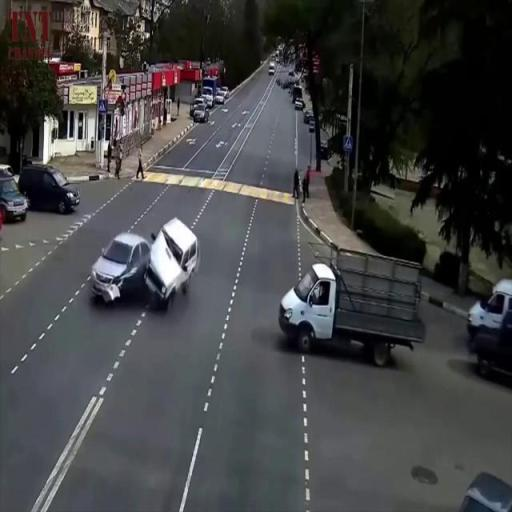Car: (87, 222, 151, 304), (144, 222, 199, 300), (22, 162, 81, 212), (0, 162, 33, 226), (191, 93, 212, 122), (212, 84, 230, 104)
Minor Accident: (91, 217, 198, 309)
Not Accident: (0, 165, 79, 221), (190, 86, 224, 123), (289, 69, 305, 112), (266, 42, 284, 76)
